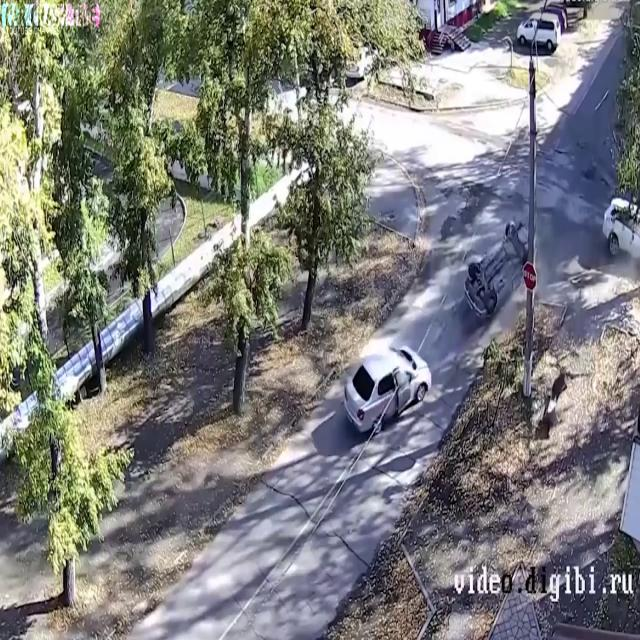Accident: (337, 296, 445, 468), (442, 186, 546, 354)
